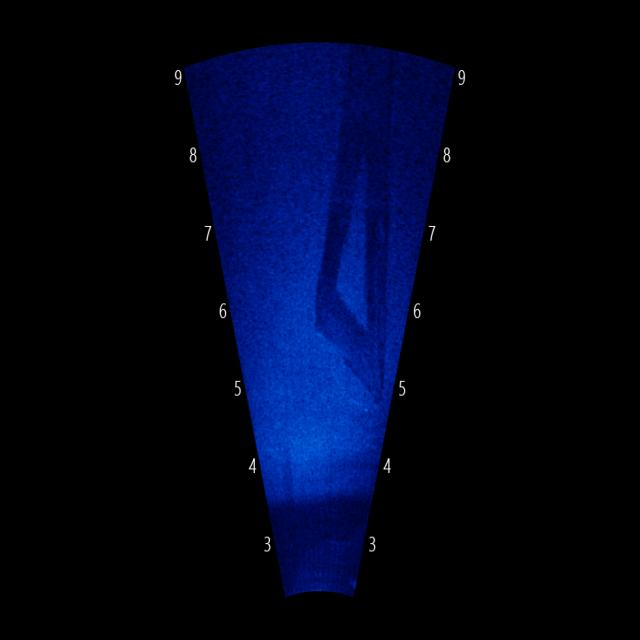triangle: (304, 104, 400, 406)
